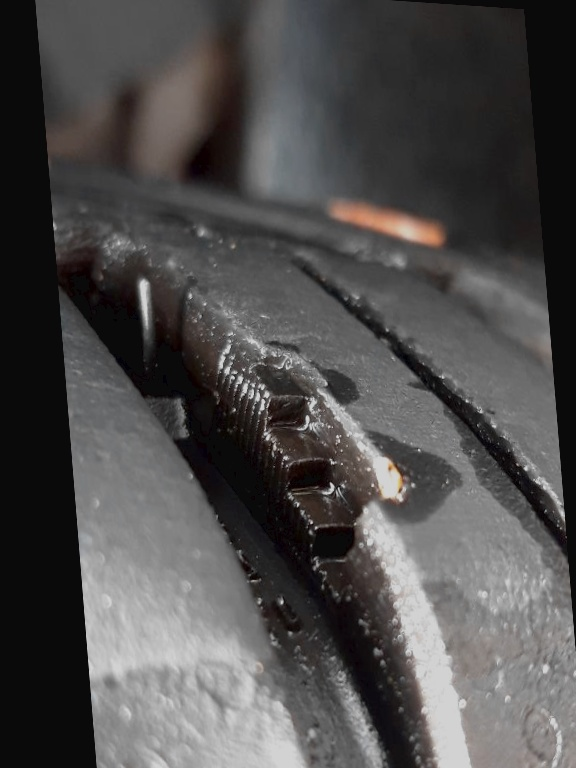temoin:80: (190, 320, 423, 632)
